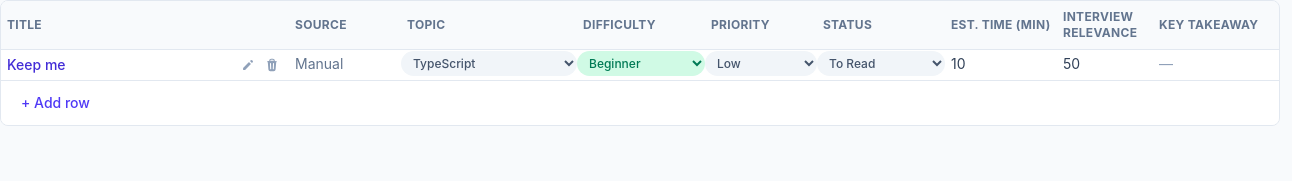
Table › discards edits on Escape
Click the button named "edit title and url for": {"x": 248, "y": 65} left=237, top=54, right=259, bottom=76
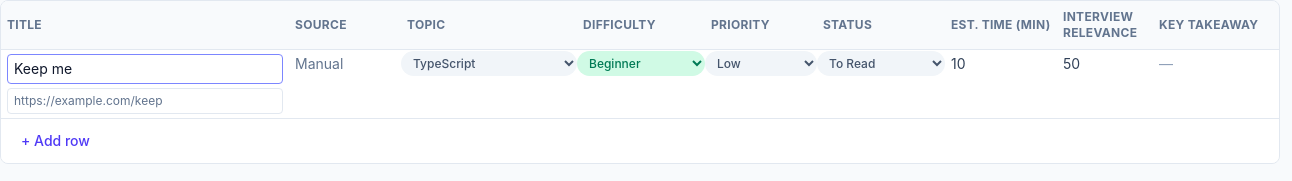
Replace the text in the field named "Title for" with "Discarded": {"x": 145, "y": 69} left=7, top=54, right=283, bottom=84
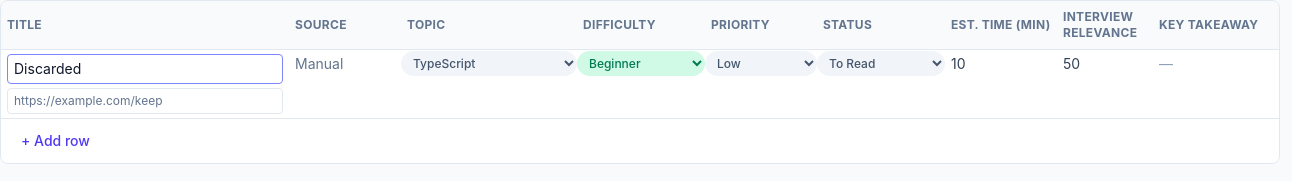
Press Escape
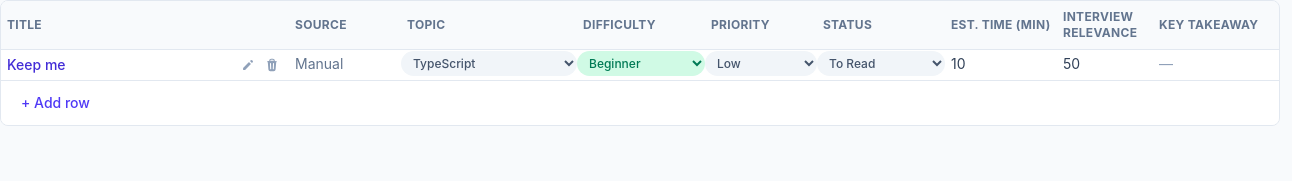
Check: the link "Keep me" is shown, box left=7, top=55, right=66, bottom=75
